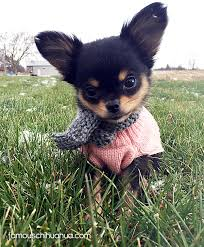chihuahua: (36, 1, 169, 211)
